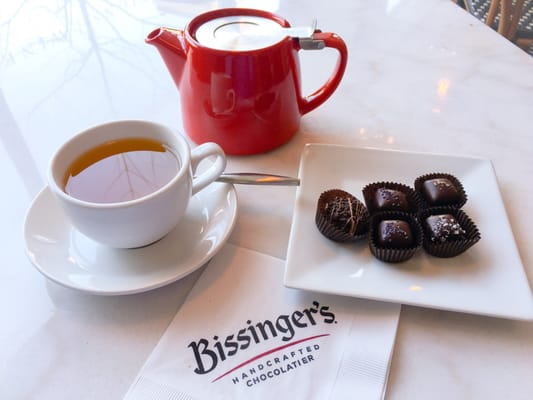pizza: (144, 7, 349, 156), (45, 118, 228, 264)
